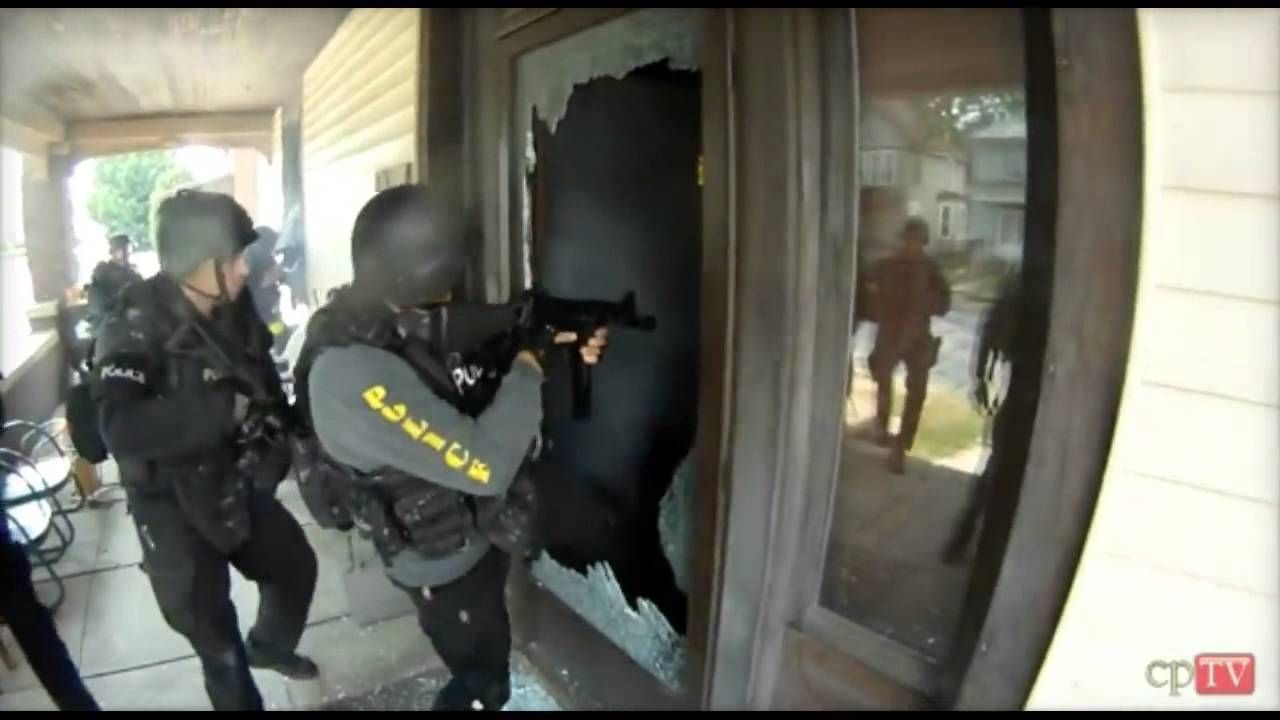rifle: (395, 284, 701, 415), (172, 316, 307, 495)
